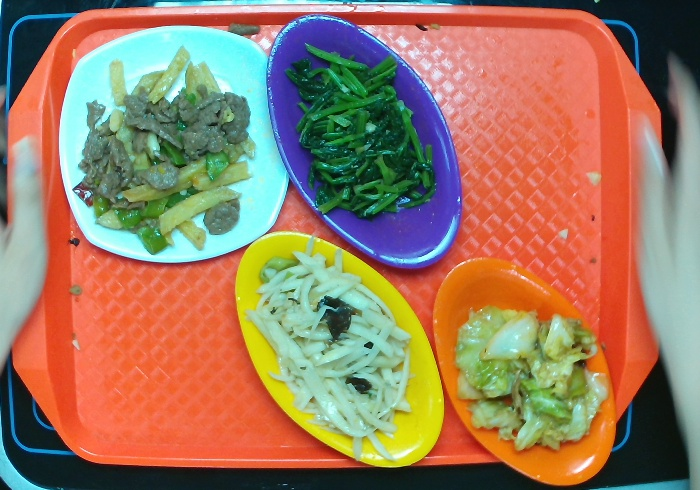RJxy-Fen_Hong_Tuo_Yuan: (269, 14, 469, 273)
RJxy-Huang_Se_Tuo_Yuan: (229, 231, 451, 473)
RJxy-Ju_Huang_Tuo_Yuan: (429, 251, 617, 490)
RJxy-Si_Fang_Die: (54, 22, 300, 269)
